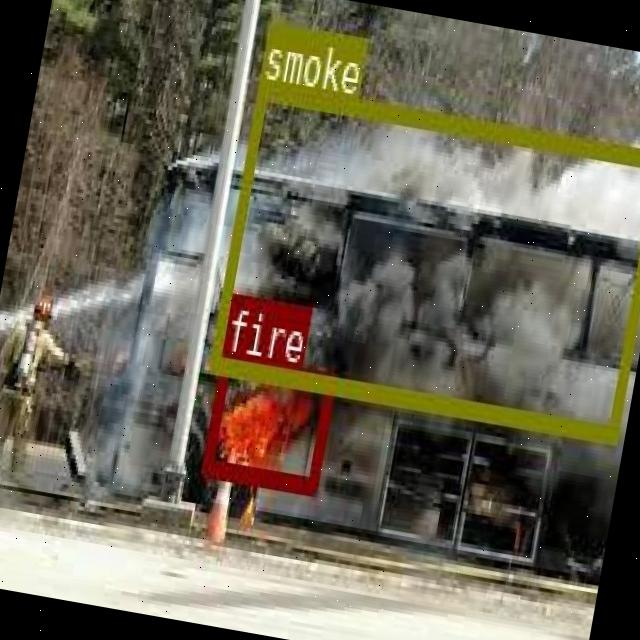fire: (202, 352, 334, 489)
smoke: (206, 80, 640, 440)
